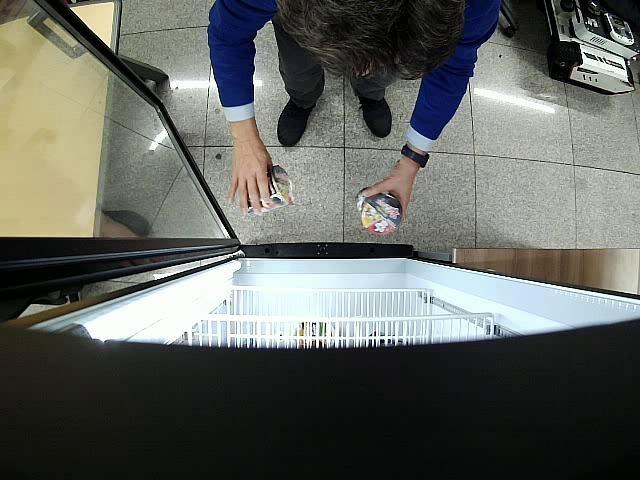08_buldak_S: (248, 164, 295, 214), (357, 188, 402, 235)
